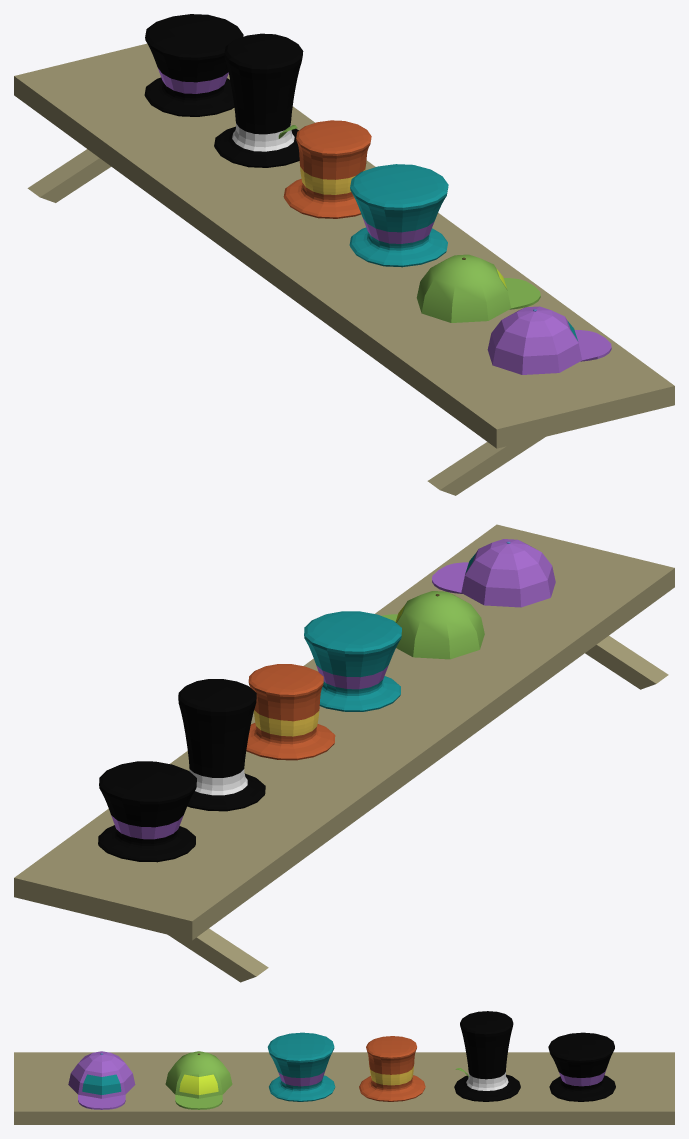
File: shelf_hats.fbx
3 views of the same model, one above another, from view 1: azimuth 30°, elevation 25°; view 2: azimuth 150°, elevation 25°; view 3: azimuth 270°, elevation 25° (orthographic). The views are drawn at different scales.
Parts seen in each view (by area): view 1: shelf, hats.001, hats.003, hats, hats.002, Sphere.008, Sphere.005, shelf.001; view 2: shelf, hats.001, hats, hats.003, hats.002, Sphere.008, Sphere.005, shelf.001; view 3: shelf, hats.001, hats.003, hats, hats.002, Sphere.008, Sphere.005.
Boxes of the visible parts, <box> form: shelf: <box>14,43,674,448</box>; hats.001: <box>214,33,303,167</box>; hats.003: <box>349,164,448,267</box>; hats: <box>144,14,243,116</box>; hats.002: <box>283,120,371,218</box>; Sphere.008: <box>487,306,611,374</box>; Sphere.005: <box>416,254,540,322</box>; shelf.001: <box>27,149,544,495</box>; shelf: <box>14,524,674,940</box>; hats.001: <box>178,679,265,811</box>; hats: <box>98,761,196,862</box>; hats.003: <box>304,611,401,711</box>; hats.002: <box>246,664,335,760</box>; Sphere.008: <box>432,539,555,607</box>; Sphere.005: <box>381,591,484,659</box>; shelf.001: <box>168,636,668,982</box>; shelf: <box>14,1052,674,1124</box>; hats.001: <box>454,1011,520,1101</box>; hats.003: <box>267,1032,335,1101</box>; hats: <box>548,1032,615,1101</box>; hats.002: <box>359,1036,425,1101</box>; Sphere.008: <box>68,1051,135,1109</box>; Sphere.005: <box>165,1051,232,1109</box>.
Bounding box in the file's own units: 163 × 144 × 668.
